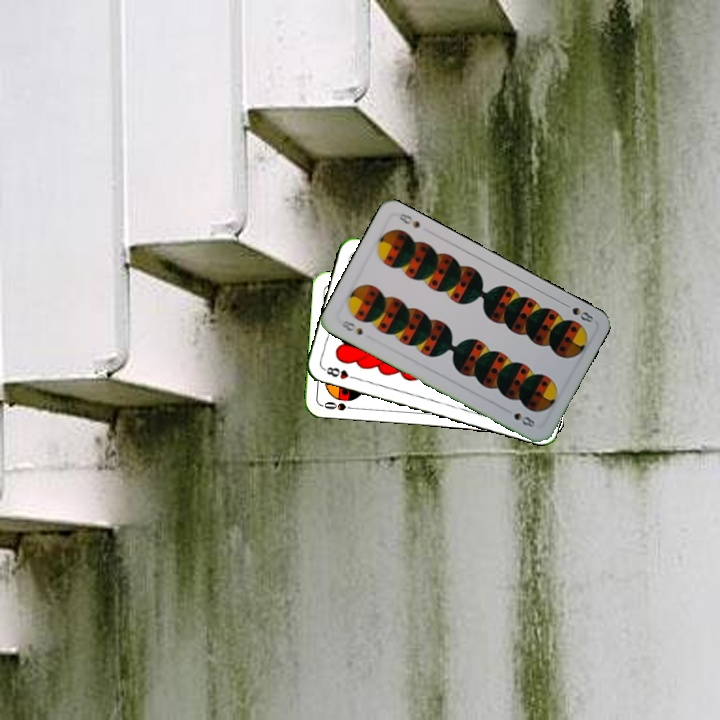H8: (320, 363, 360, 382)
S8: (559, 299, 596, 325), (337, 316, 365, 338)
SO: (318, 398, 359, 413)
